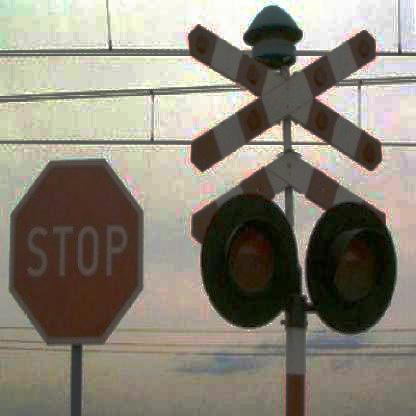Stop Sign: (6, 155, 151, 351)
